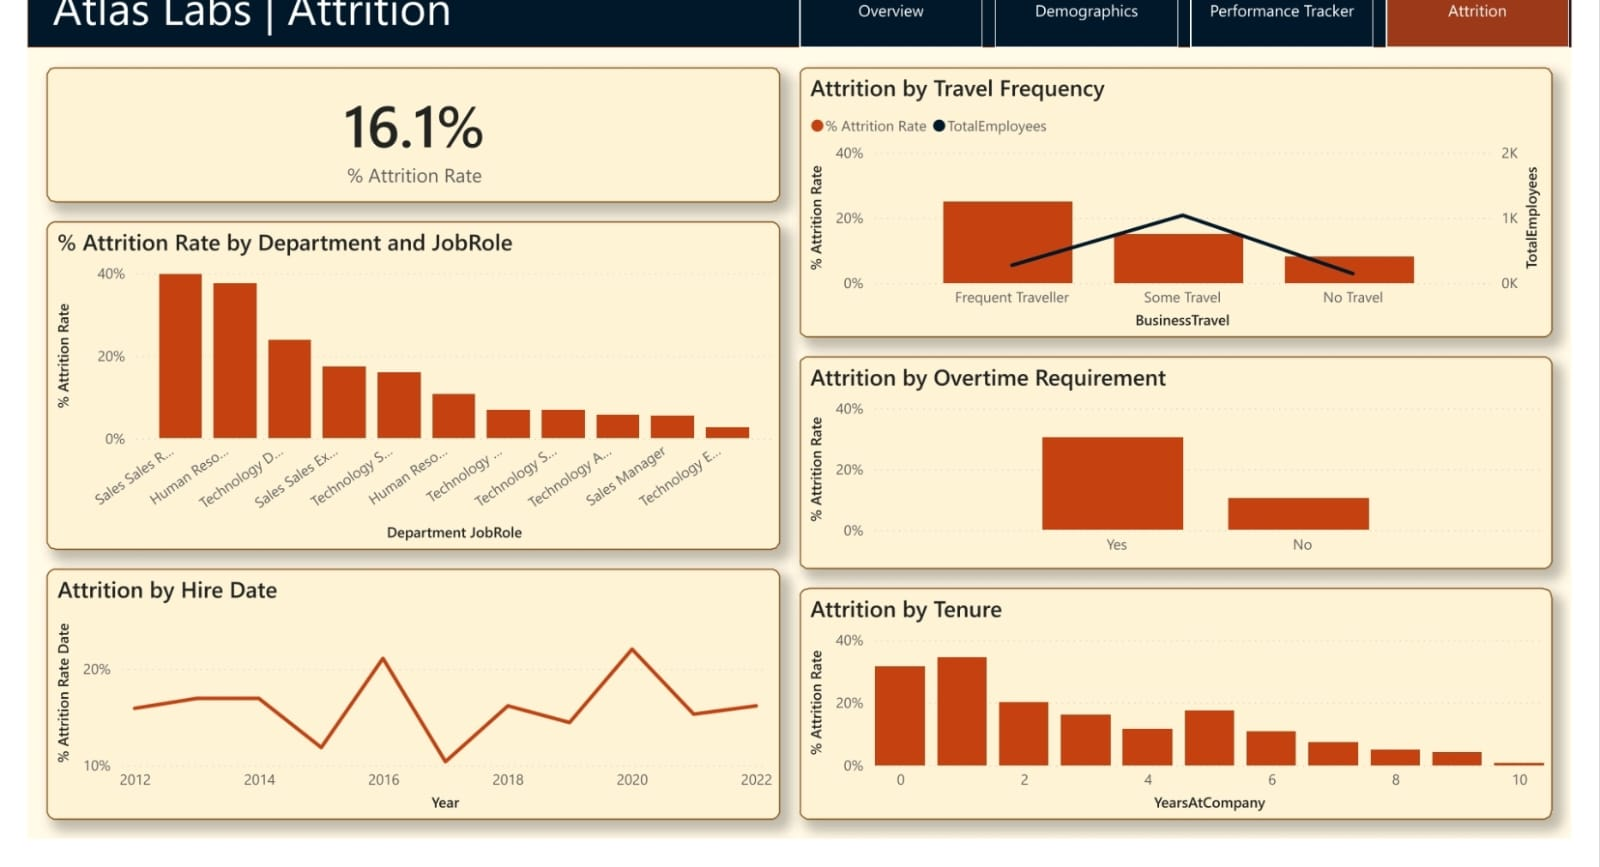

This screenshot's page, from the dashboard's own definition file:
{"tool":"powerbi","page":{"name":"Attrition","canvas":[1280,720],"ordinal":4},"visuals":[{"type":"card","fields":{"Values":["_Measures.% Attrition Rate"]},"box":[16,80,608,112],"z":0},{"type":"columnChart","fields":{"Category":["DimEmployee.Department","DimEmployee.JobRole"],"Y":["_Measures.% Attrition Rate"]},"box":[16,208,608,272],"z":1000},{"type":"lineChart","title":"Attrition by Hire Date","fields":{"Y":["_Measures.% Attrition Rate Date"],"Category":["DimDate.Date.Variation.Date Hierarchy.Year","DimDate.Date.Variation.Date Hierarchy.Quarter","DimDate.Date.Variation.Date Hierarchy.Month","DimDate.Date.Variation.Date Hierarchy.Day"]},"box":[16,496,608,208],"z":2000},{"type":"lineStackedColumnComboChart","title":"Attrition by Travel Frequency","fields":{"Y":["_Measures.% Attrition Rate"],"Category":["DimEmployee.BusinessTravel"],"Y2":["_Measures.TotalEmployees"]},"box":[640,80,624,224],"z":3000},{"type":"columnChart","title":"Attrition by Overtime Requirement","fields":{"Category":["DimEmployee.OverTime"],"Y":["_Measures.% Attrition Rate"]},"box":[640,320,624,176],"z":4000},{"type":"columnChart","title":"Attrition by Tenure","fields":{"Category":["DimEmployee.YearsAtCompany"],"Y":["_Measures.% Attrition Rate"]},"box":[640,512,624,192],"z":5000},{"type":"shape","box":[0,0,1280,64],"z":6000},{"type":"textbox","box":[32,0,624,64],"z":7000},{"type":"pageNavigator","box":[640,0,640,64],"z":8000}]}

Visuals, with their boxes on the page's 1280x720 design canvas (x1, y1, x2, y2). These are canvas units, not pixel positions in the 1600x867 screenshot, which may show the page scaled, cropped or inside an application window:
card - _Measures.% Attrition Rate: <box>16,80,624,192</box>
columnChart - DimEmployee.Department x DimEmployee.JobRole: <box>16,208,624,480</box>
"Attrition by Hire Date" lineChart: <box>16,496,624,704</box>
"Attrition by Travel Frequency" lineStackedColumnComboChart: <box>640,80,1264,304</box>
"Attrition by Overtime Requirement" columnChart: <box>640,320,1264,496</box>
"Attrition by Tenure" columnChart: <box>640,512,1264,704</box>
shape: <box>0,0,1280,64</box>
textbox: <box>32,0,656,64</box>
pageNavigator: <box>640,0,1280,64</box>
